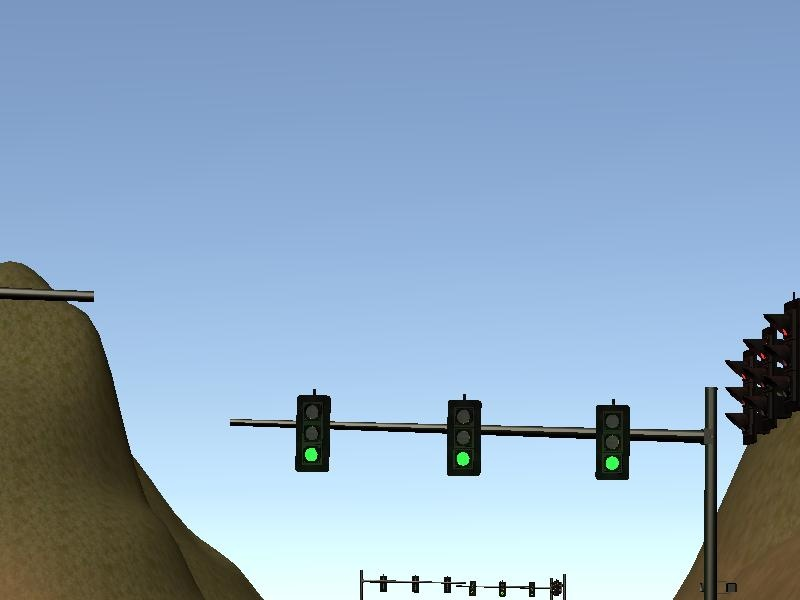traffic_light_green: (273, 381, 706, 485)
